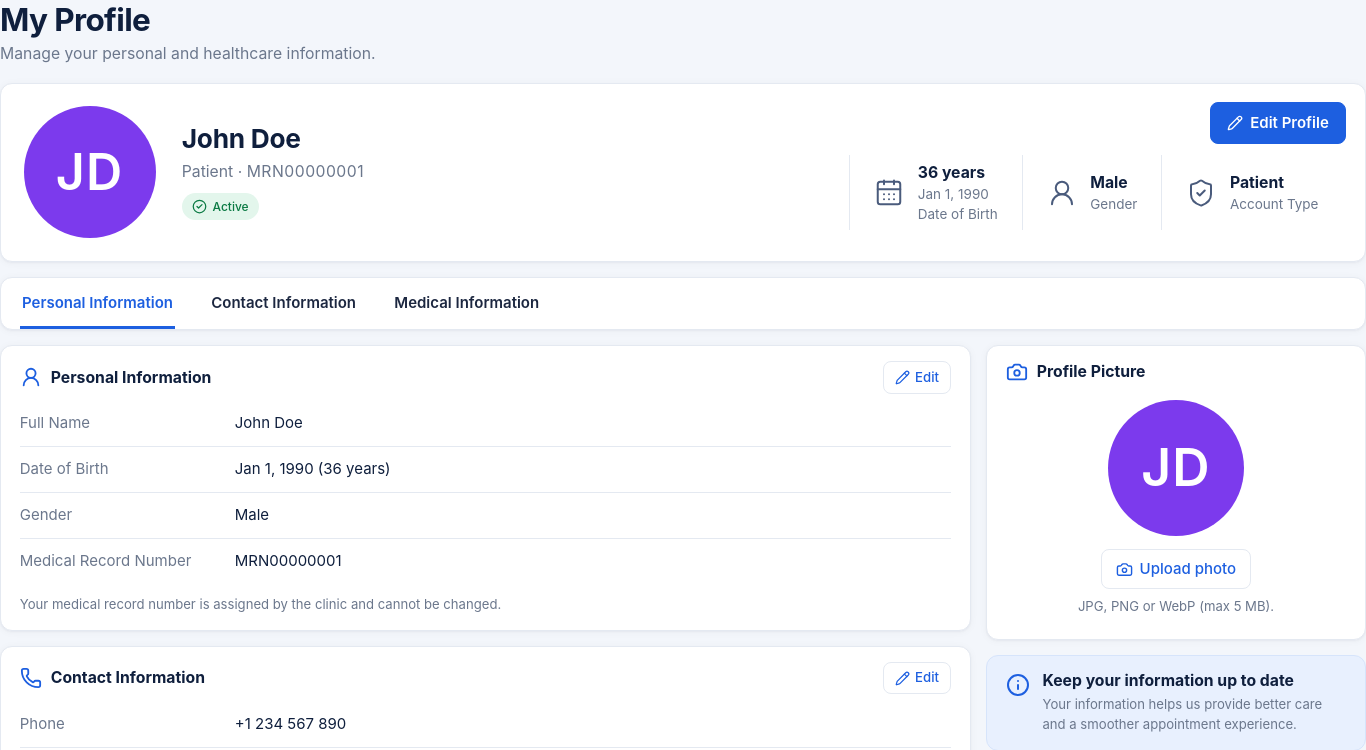
Test case: My Profile › edits the personal details from the Personal Information card
This screenshot has width=1366, height=750.
Click the button with aria-label "Edit personal details" at [917, 377], box [883,361,951,394]
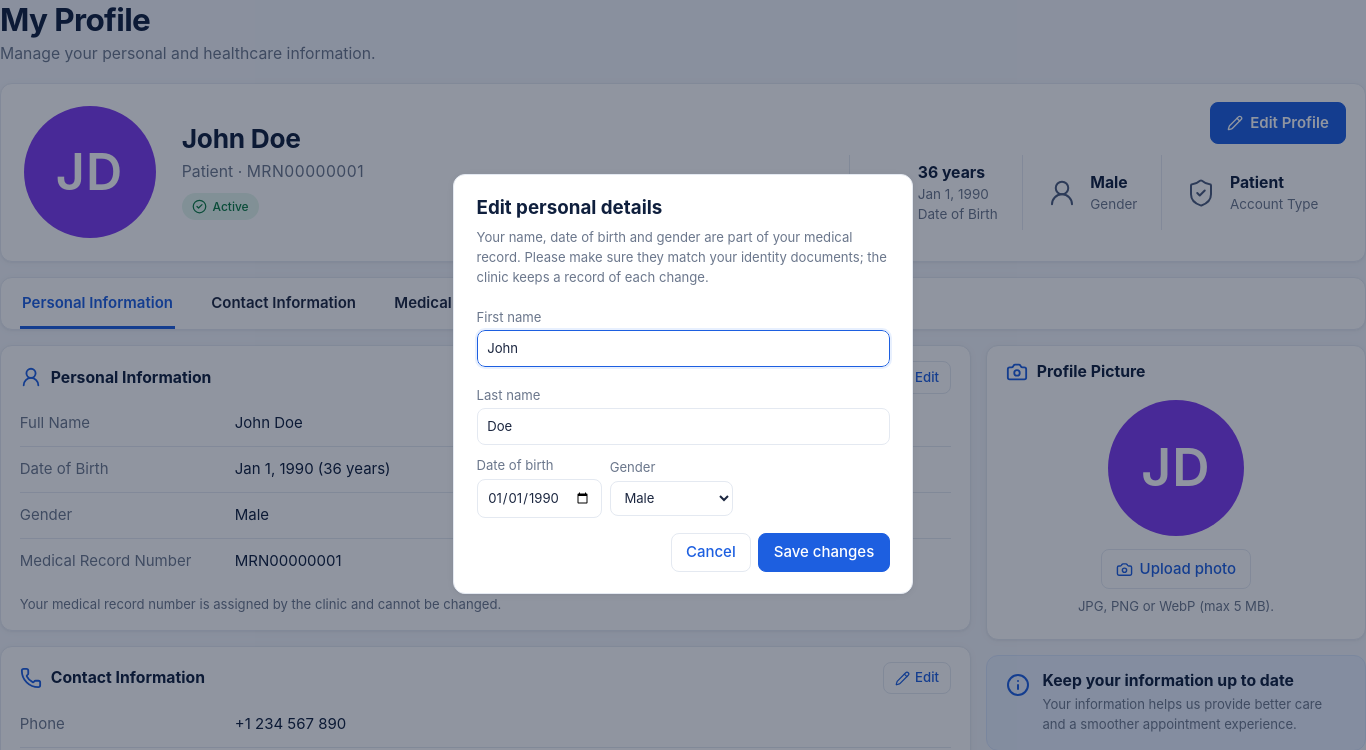
Replace the text in the field labelled "First name" with "Jonathan" at [683, 349], box [476,330,890,367]
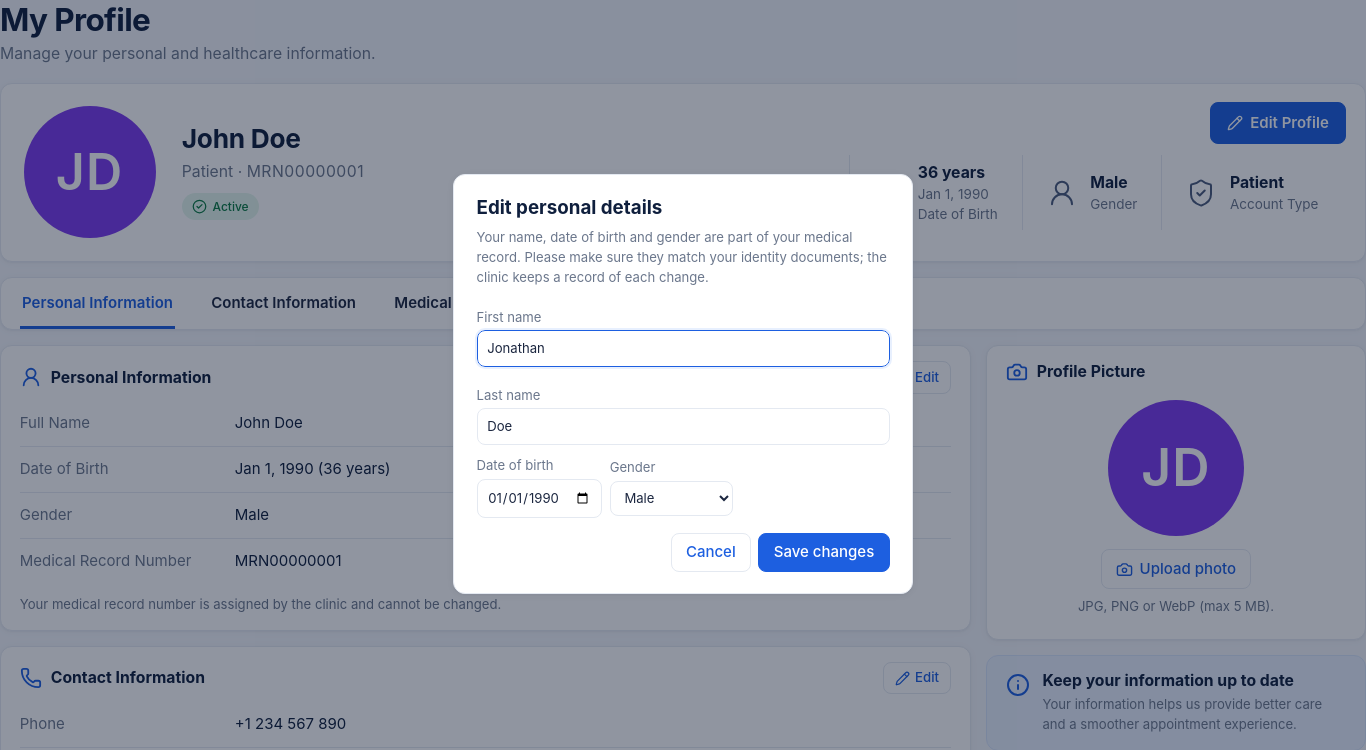
Click the button "Save changes" at [824, 552], box [758,533,890,572]
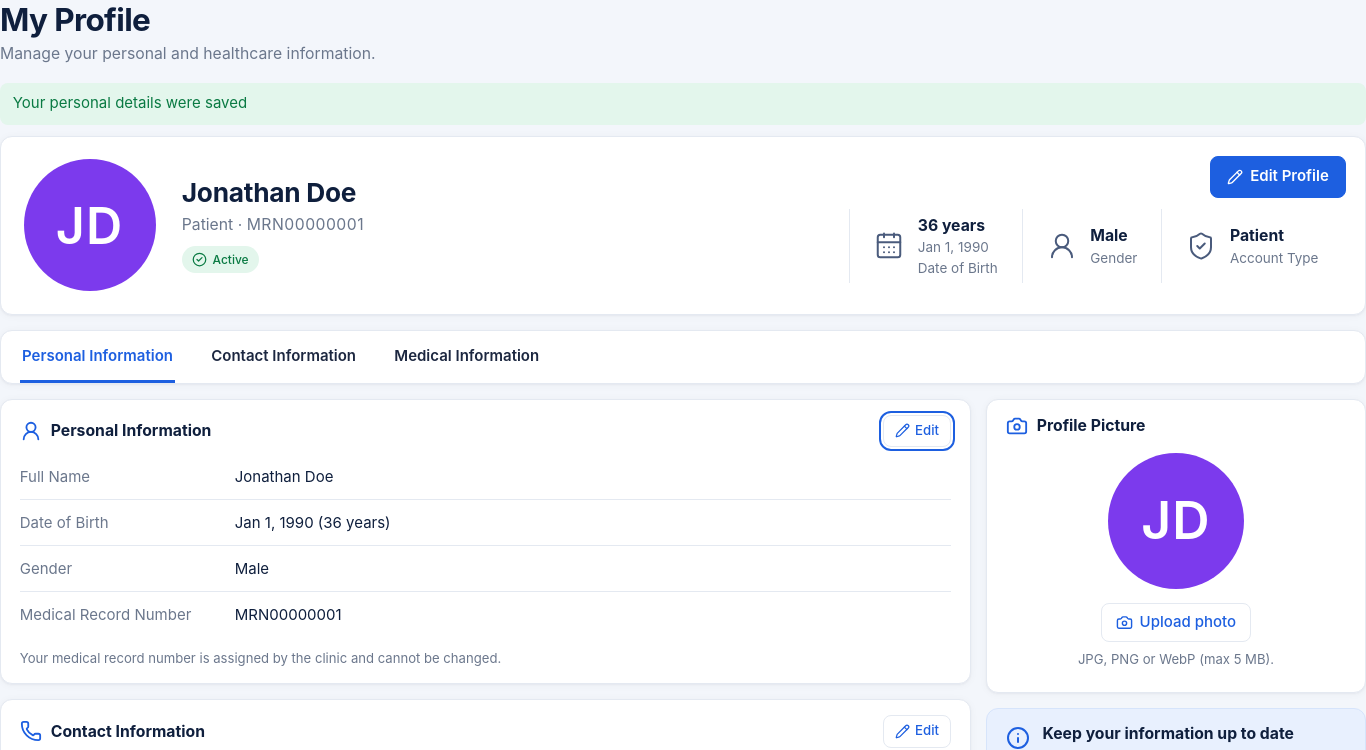
Expected: the text "Your personal details were saved" is shown, [0,82,1365,124]
Expected: the element "Personal Information" shows "Jonathan Doe", [235,466,334,486]
